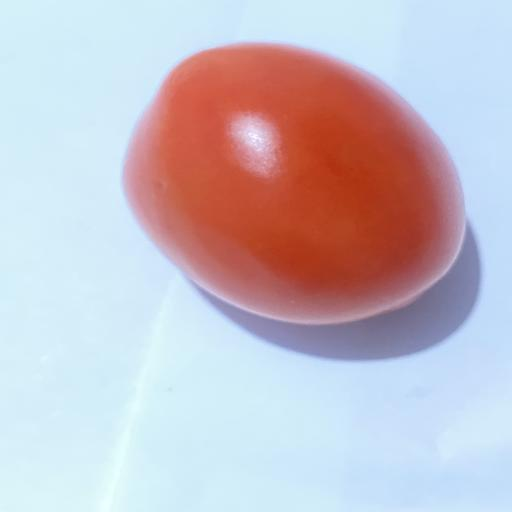ripe: (124, 43, 465, 324)
